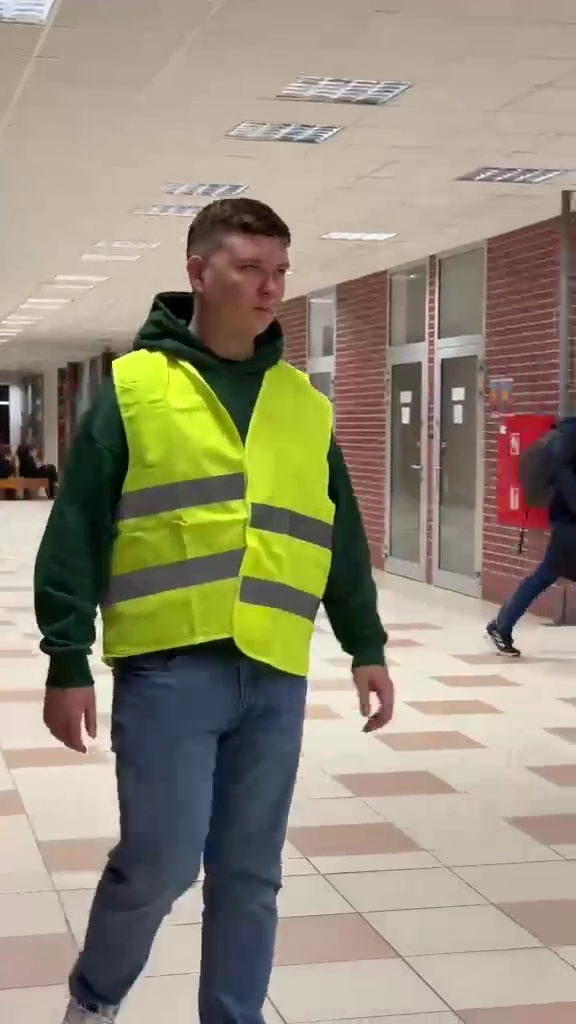no vest: (478, 390, 576, 657)
vest: (31, 199, 393, 968)
